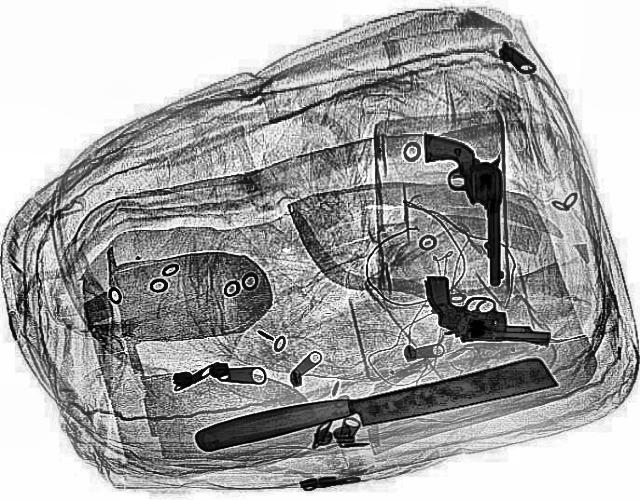Gun: (422, 131, 508, 287), (421, 276, 552, 346)
Knife: (187, 350, 558, 462)
